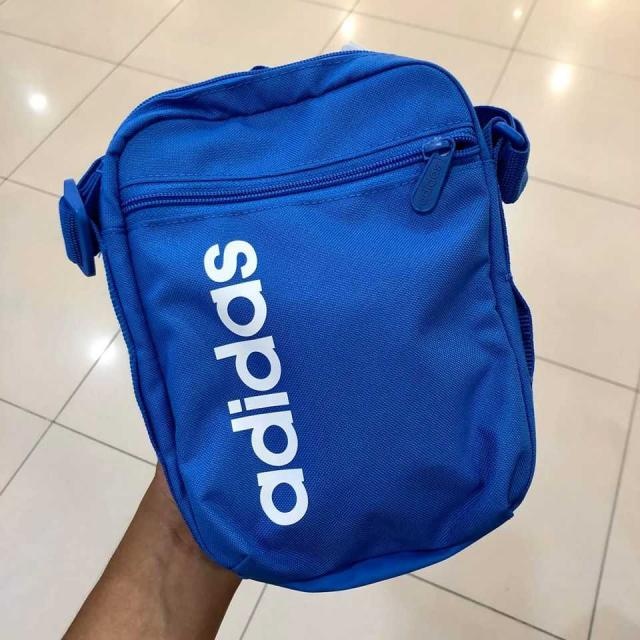Handbag: (56, 51, 536, 599)
